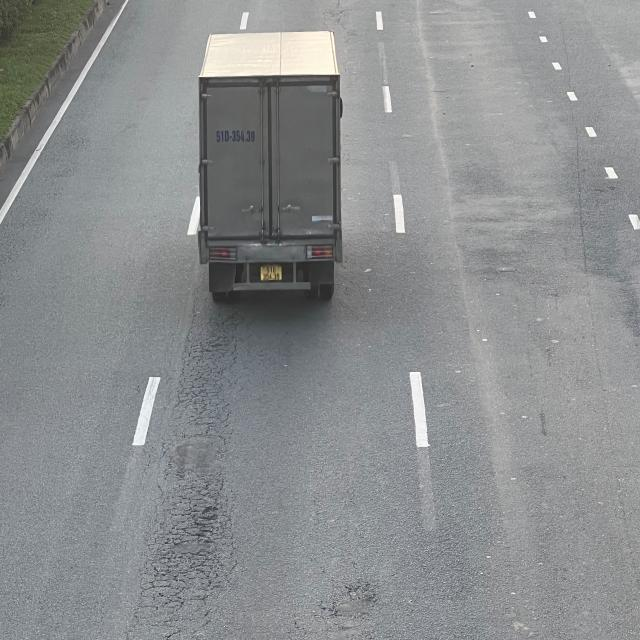truck: (198, 30, 342, 305)
